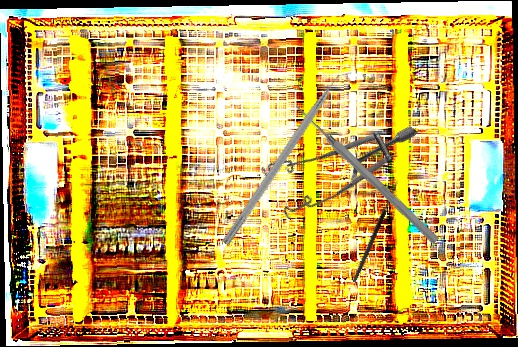Chopper: (221, 64, 358, 253)
Hook Surgical: (347, 176, 400, 284)
Pusher: (291, 101, 442, 246)
Speculum: (247, 69, 418, 249)
